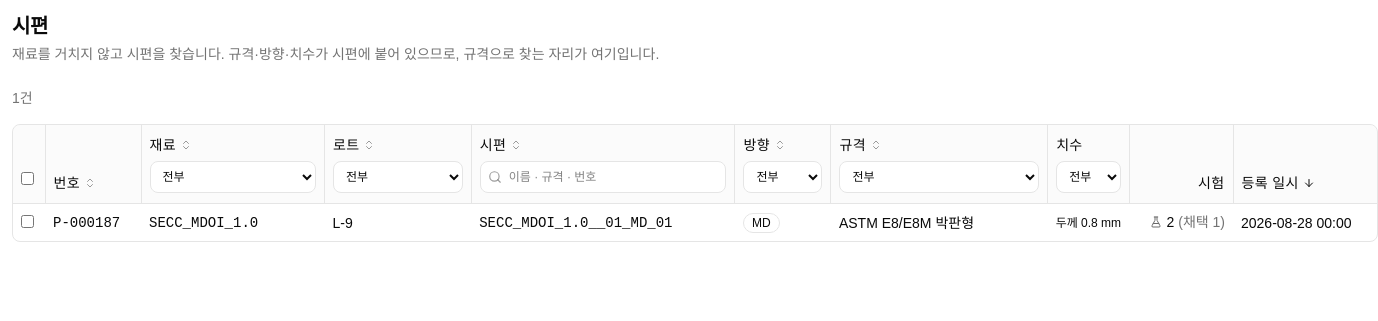
Test: 일괄 수정 › 거르면 선택이 풀린다
Expected: the link "SECC_MDOI_1.0" is shown, [149, 214, 258, 230]
Click the checkbox named "SECC_MDOI_1.0__01_MD_01 선택" at (28, 221), box [21, 214, 34, 228]
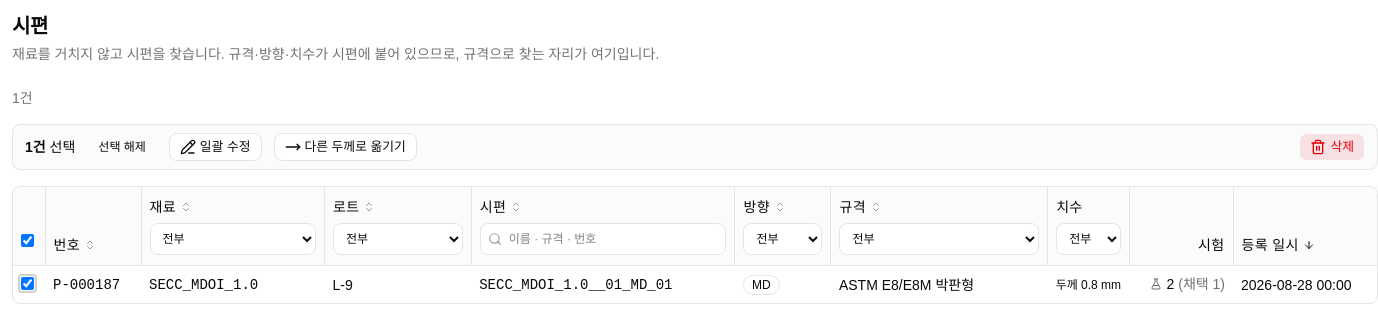
Expected: the button "일괄 수정" is shown, [169, 133, 262, 161]
Select "L-9 (2)" in the dropdown named "로트 로 필터" at (398, 239), box [333, 223, 463, 255]
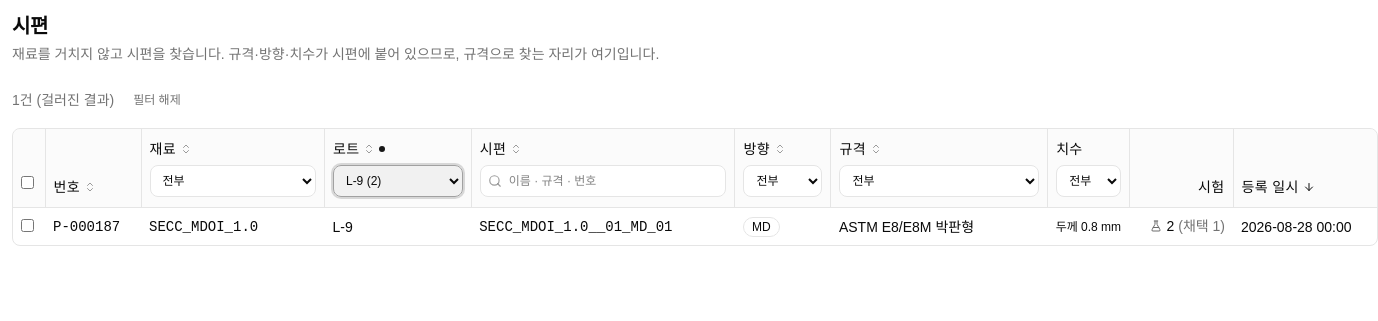
Expected: the button "일괄 수정" is gone
